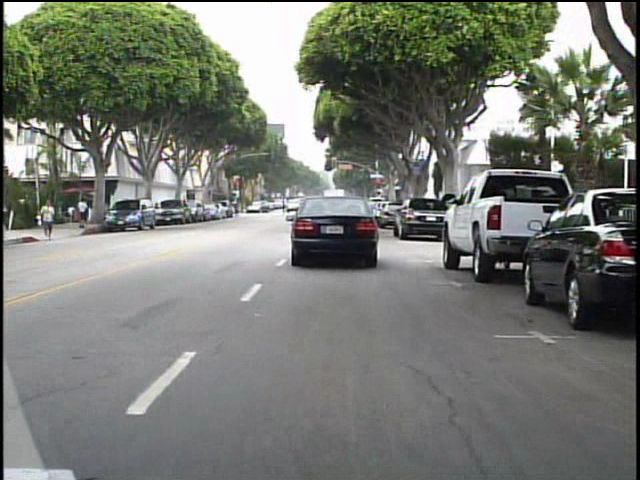person: (40, 194, 62, 242), (78, 194, 94, 229), (282, 192, 290, 216), (235, 197, 242, 219)
